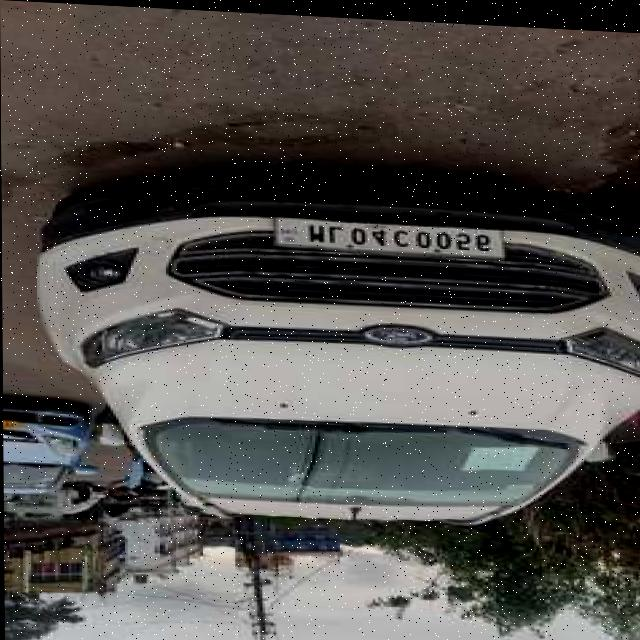plate: (273, 214, 509, 255)
